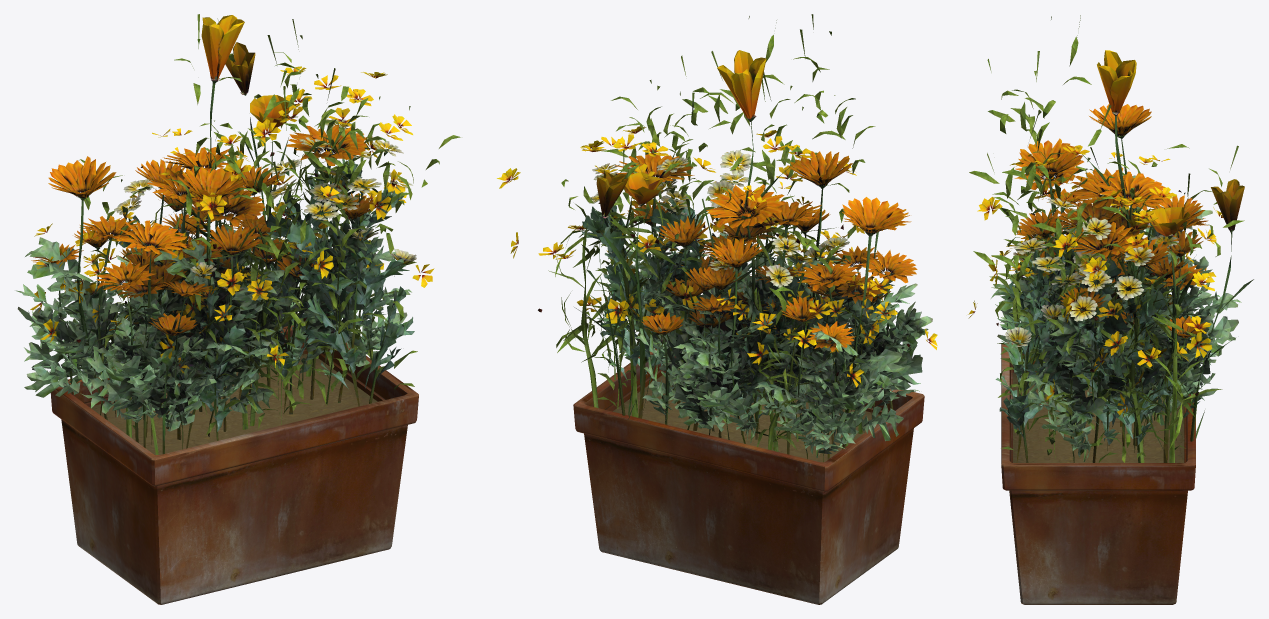
The model's file is Vaso Rettangolare Fiorito LR-A1.obj.
3 renders of one model, left to right at view 1: azimuth 30°, elevation 25°; view 2: azimuth 150°, elevation 25°; view 3: azimuth 270°, elevation 25°, orthographic. The views are drawn at different scales.
Parts seen in each view (by area): view 1: Forest001_LR001_Baked002, Vaso_A002; view 2: Forest001_LR001_Baked002, Vaso_A002; view 3: Forest001_LR001_Baked002, Vaso_A002.
Part boxes in pixels (x1,y1,x2,y2): Forest001_LR001_Baked002: (15,14,460,454); Vaso_A002: (50,325,418,604); Forest001_LR001_Baked002: (497,14,937,461); Vaso_A002: (573,344,924,604); Forest001_LR001_Baked002: (968,15,1253,462); Vaso_A002: (1001,342,1195,604).
Bounding box in the file's own units: 60.76 × 79.27 × 40.13.
